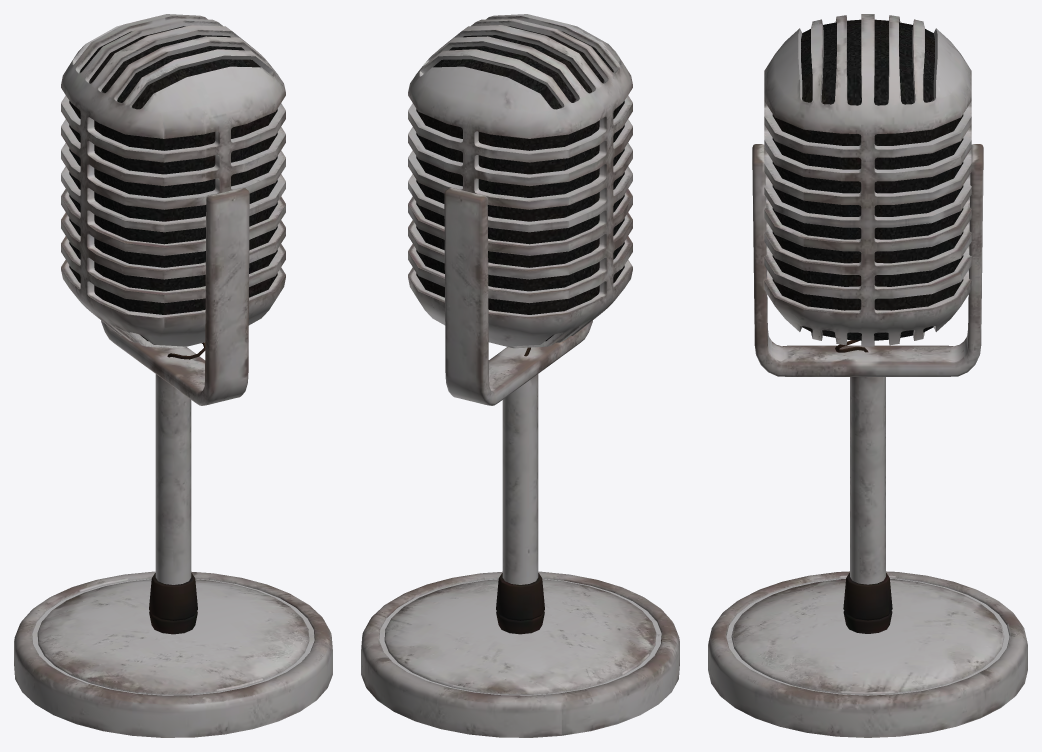
The model's file is singer.glb.
The picture shows the model from 3 angles, left to right: view 1: azimuth 30°, elevation 25°; view 2: azimuth 150°, elevation 25°; view 3: azimuth 270°, elevation 25°; orthographic projection.
Visible parts, largest first — view 1: Circle; view 2: Circle; view 3: Circle.
Part boxes in pixels (box(x1,y1,x2,y2)): Circle: box(14, 14, 332, 737); Circle: box(361, 14, 679, 737); Circle: box(708, 14, 1027, 737).
Bounding box in the file's own units: 0.4538 × 1 × 0.4538.
1 material, 1 textured.
